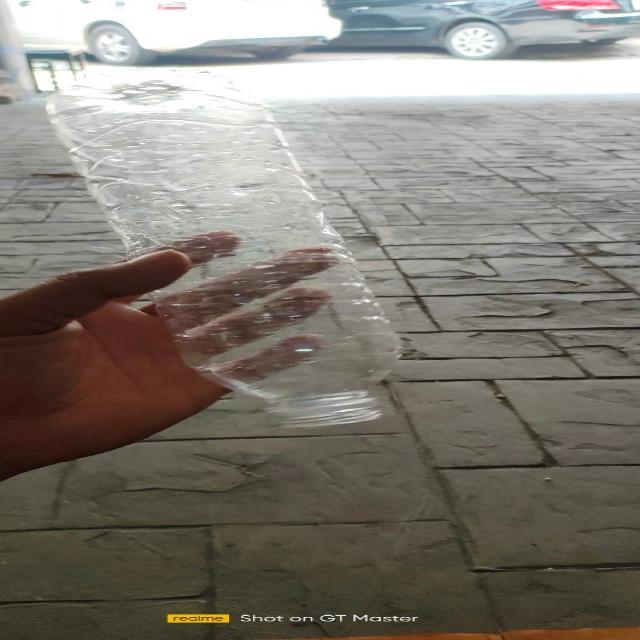bottle: (43, 66, 402, 428)
